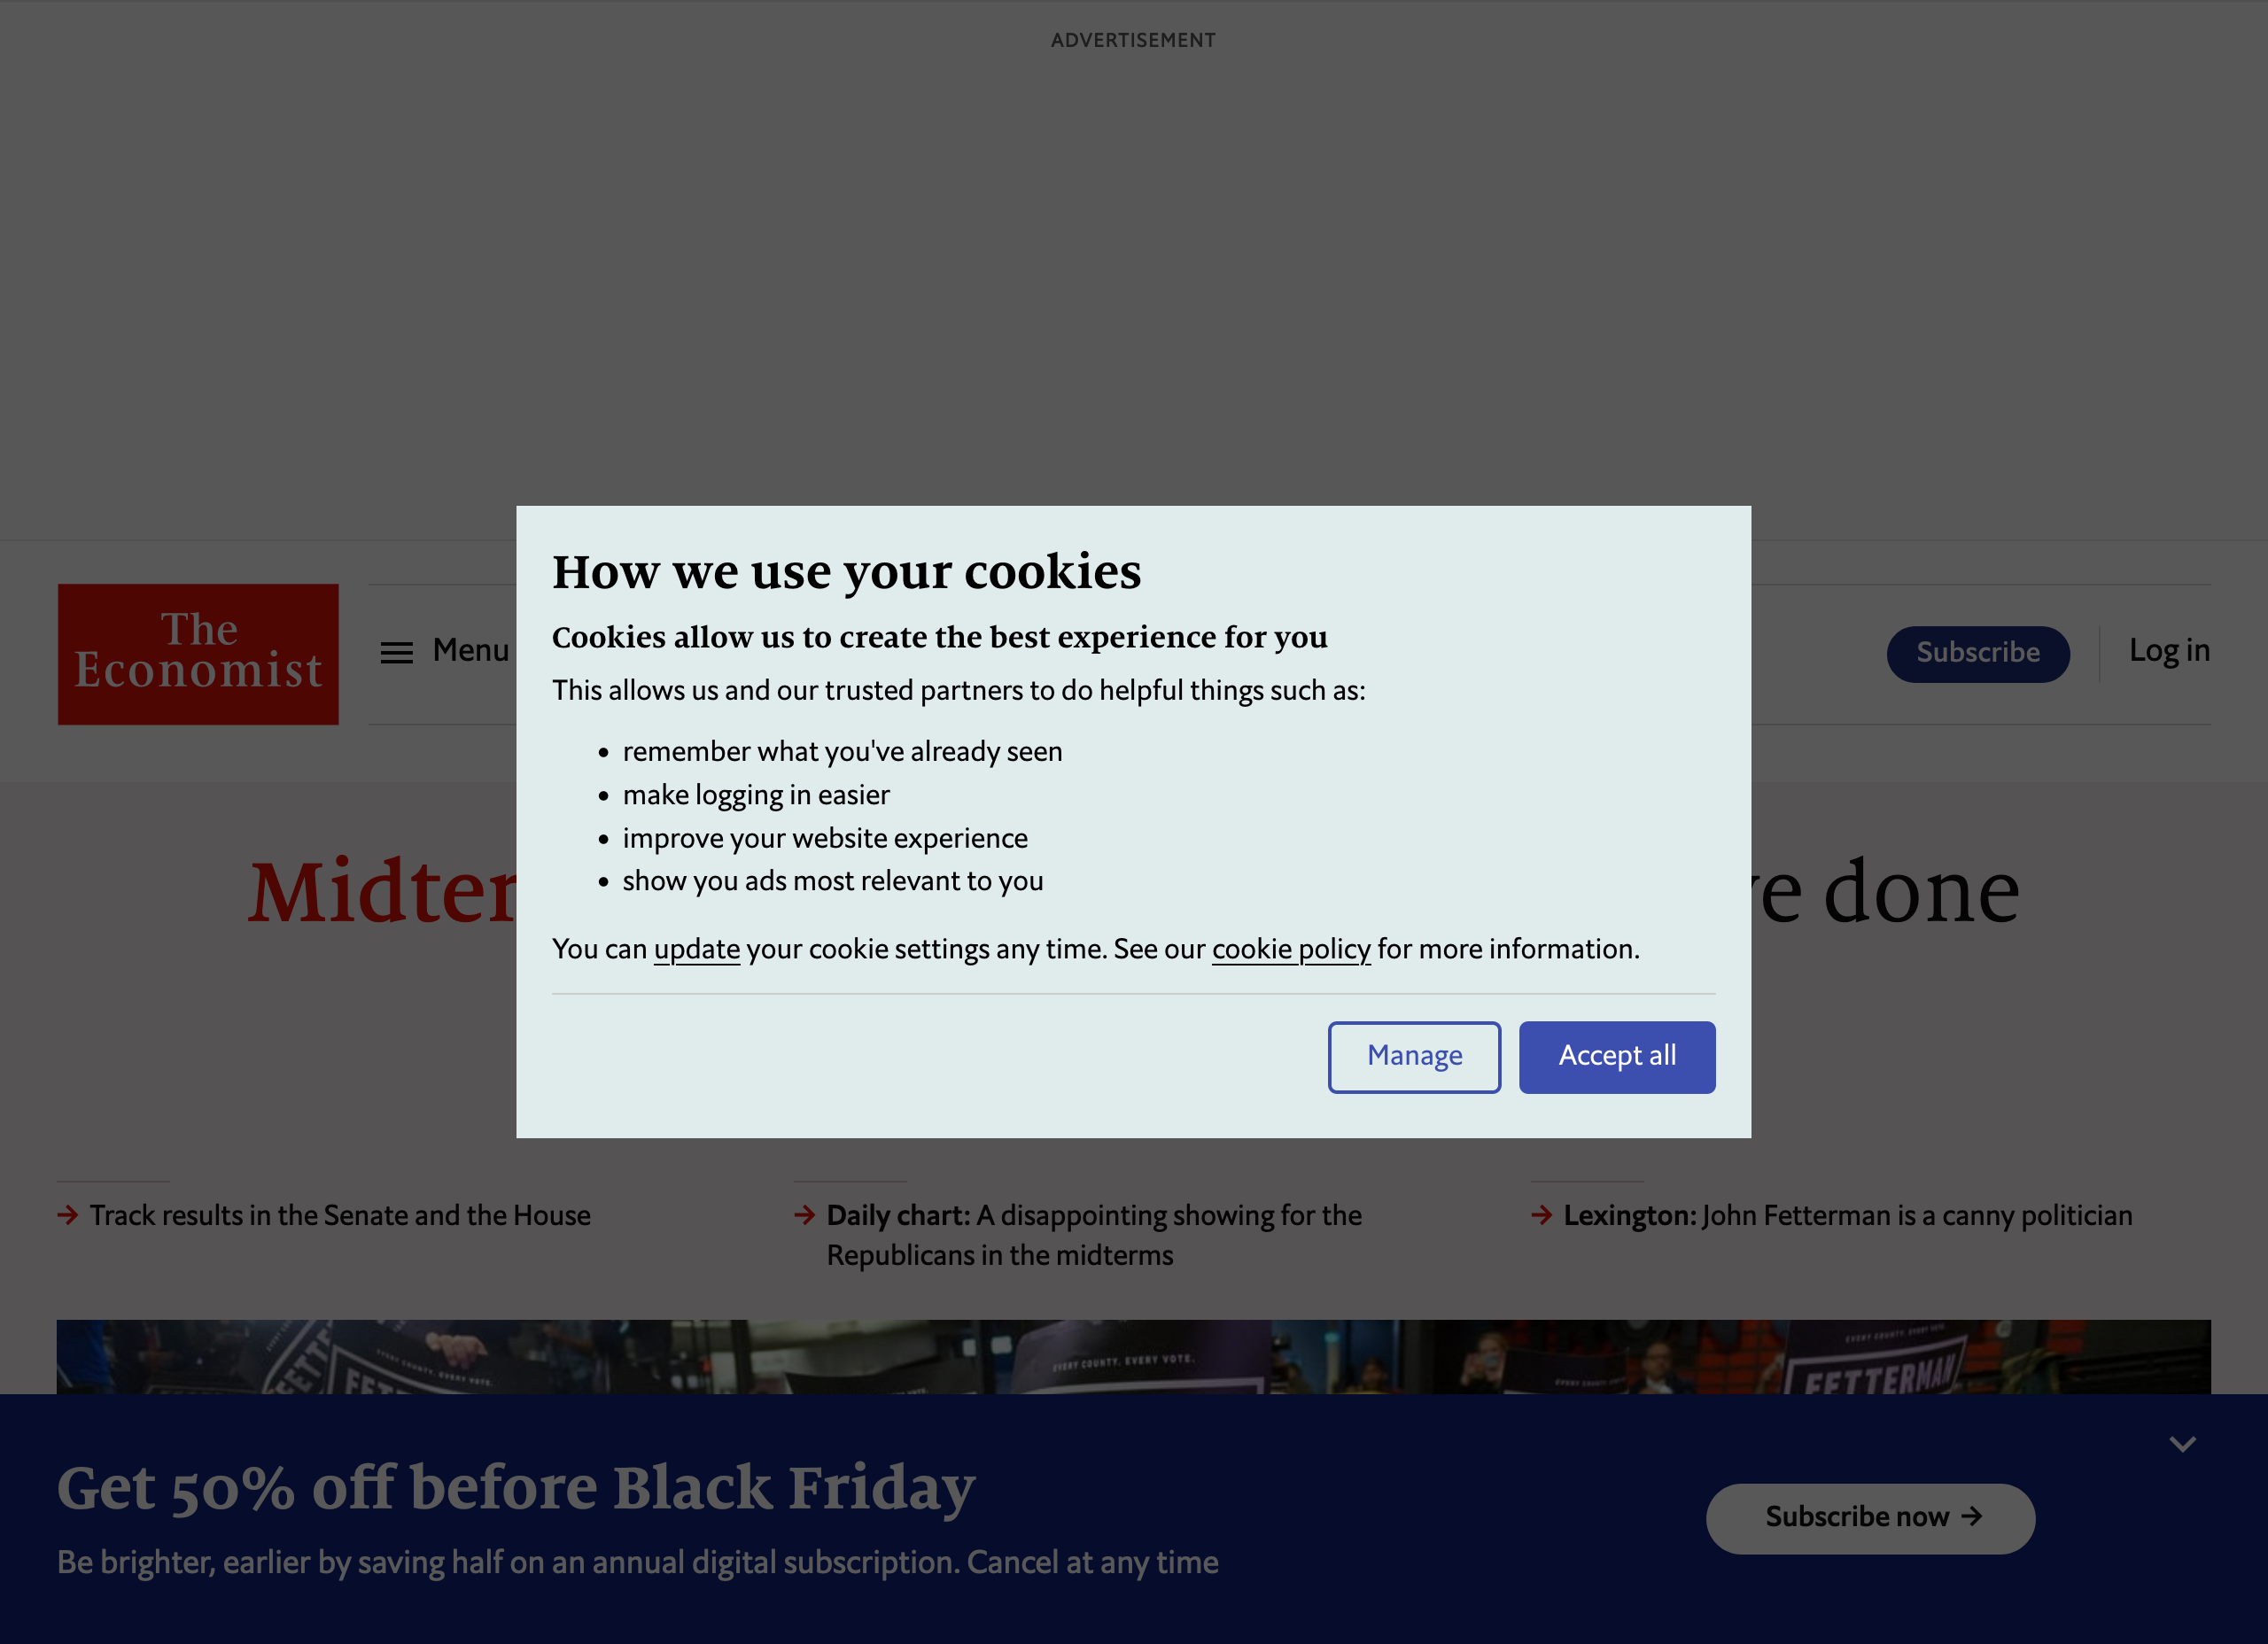Login: (2122, 623, 2227, 676)
